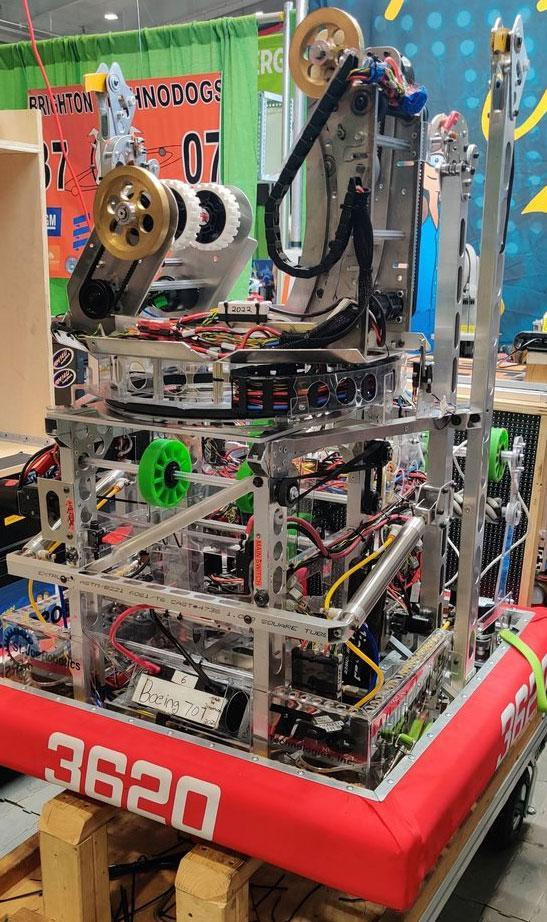robot: (0, 4, 547, 910)
